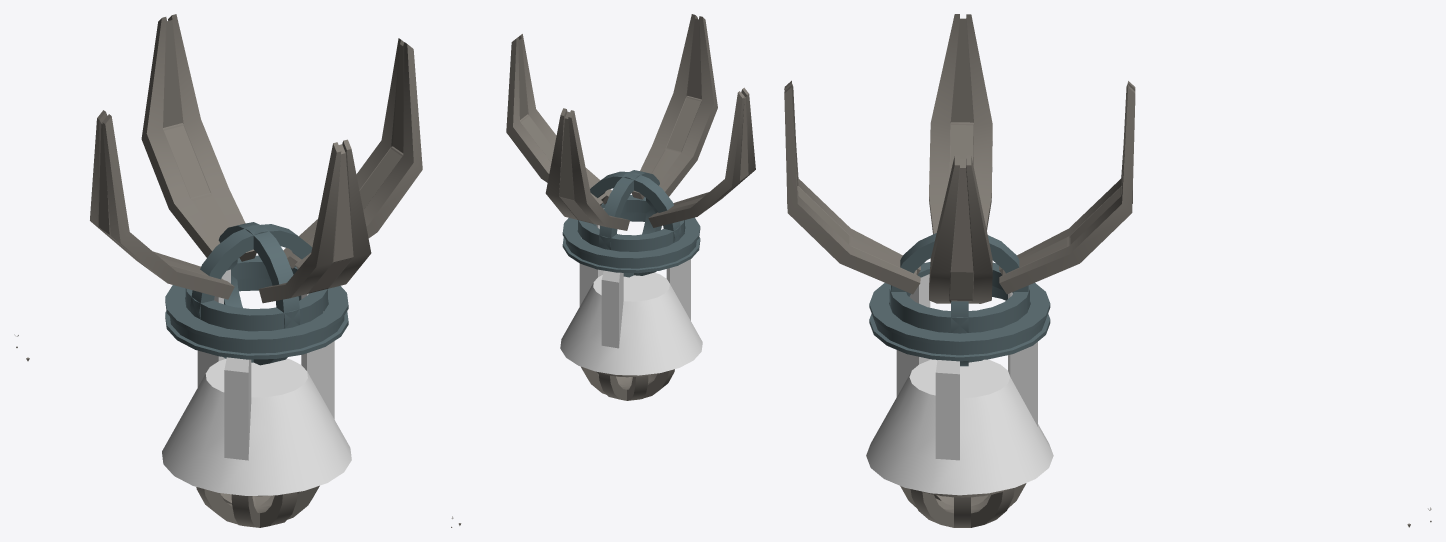
File: Hand.fbx
The picture shows the model from 3 angles, left to right: view 1: azimuth 30°, elevation 25°; view 2: azimuth 150°, elevation 25°; view 3: azimuth 270°, elevation 25°; orthographic projection. The views are drawn at different scales.
Visible parts, largest first — view 1: polySurface9, polySurface16, polySurface15, polySurface14, polySurface17; view 2: polySurface9, polySurface14, polySurface15, polySurface16, polySurface17; view 3: polySurface9, polySurface17, polySurface15, polySurface14, polySurface16.
Part boxes in pixels (box(x1,y1,x2,y2)): polySurface9: box(14, 222, 351, 527); polySurface16: box(141, 14, 256, 261); polySurface15: box(283, 38, 422, 268); polySurface14: box(258, 139, 371, 303); polySurface17: box(90, 110, 234, 299); polySurface9: box(451, 170, 702, 527); polySurface14: box(631, 14, 717, 199); polySurface15: box(506, 34, 611, 205); polySurface16: box(545, 108, 629, 230); polySurface17: box(648, 87, 755, 227); polySurface9: box(866, 233, 1431, 527); polySurface17: box(929, 14, 992, 234); polySurface15: box(929, 155, 992, 303); polySurface14: box(784, 80, 920, 294); polySurface16: box(999, 81, 1135, 294).
Size of the model in its own units: 230 by 322 by 426.
